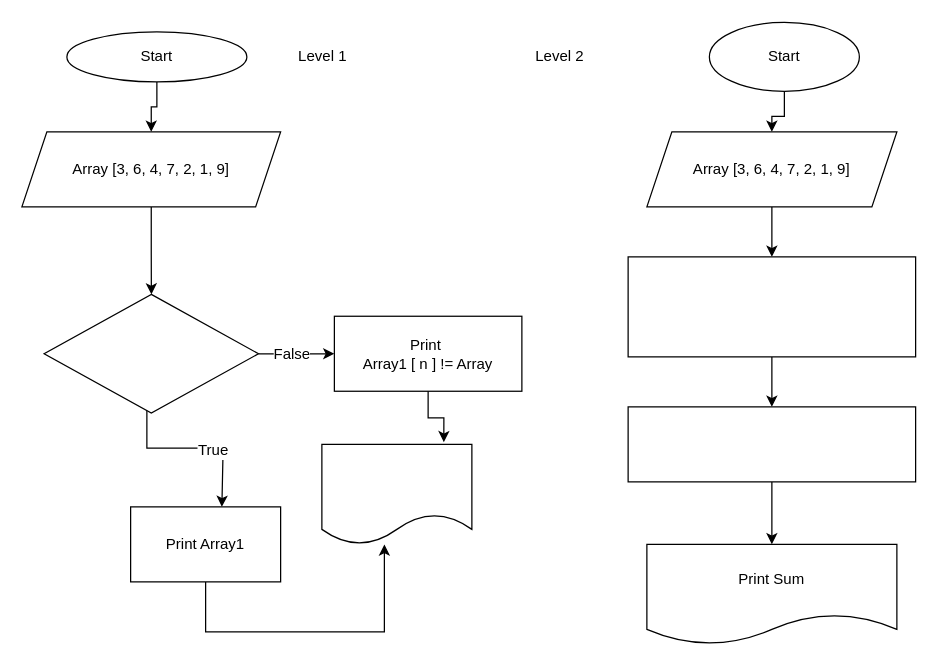
Some shapes in this 938 by 666 pixel diagram are drawn without their labels. The centre of each missing label's shape, as x and y in pixels:
Array 1 [] = Array[ ]^2: [771,306]
Array[ n ] = Array1 [ n ]: [150,353]
End: [396,493]
Sum =Array1[]: [771,444]
